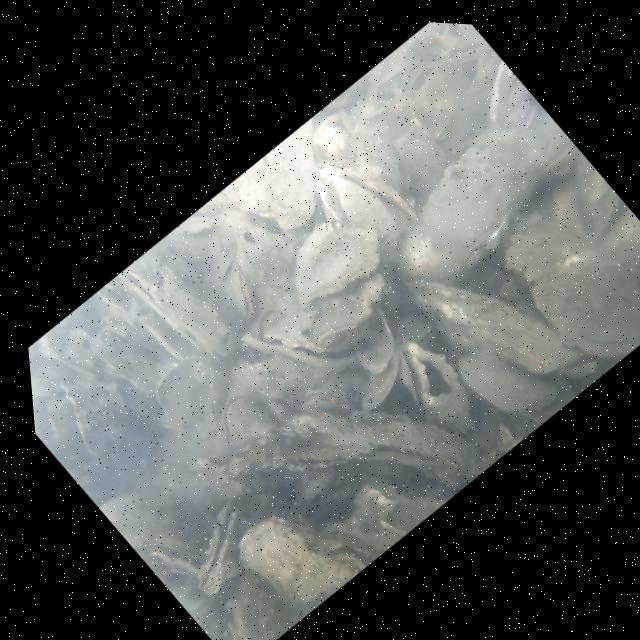Oyster-Closed: (205, 323, 504, 606), (346, 82, 607, 316), (397, 224, 591, 421), (257, 246, 412, 388), (159, 487, 286, 605), (445, 321, 565, 439), (194, 565, 301, 640), (207, 381, 287, 458), (293, 371, 361, 437)
Oyster-Indeterminate: (510, 198, 640, 384), (223, 479, 380, 629), (259, 196, 400, 326), (329, 302, 413, 382), (348, 349, 420, 415)
Oyster-Open: (382, 330, 497, 449), (315, 144, 428, 258), (138, 340, 251, 448), (346, 121, 428, 205), (210, 256, 276, 324)
